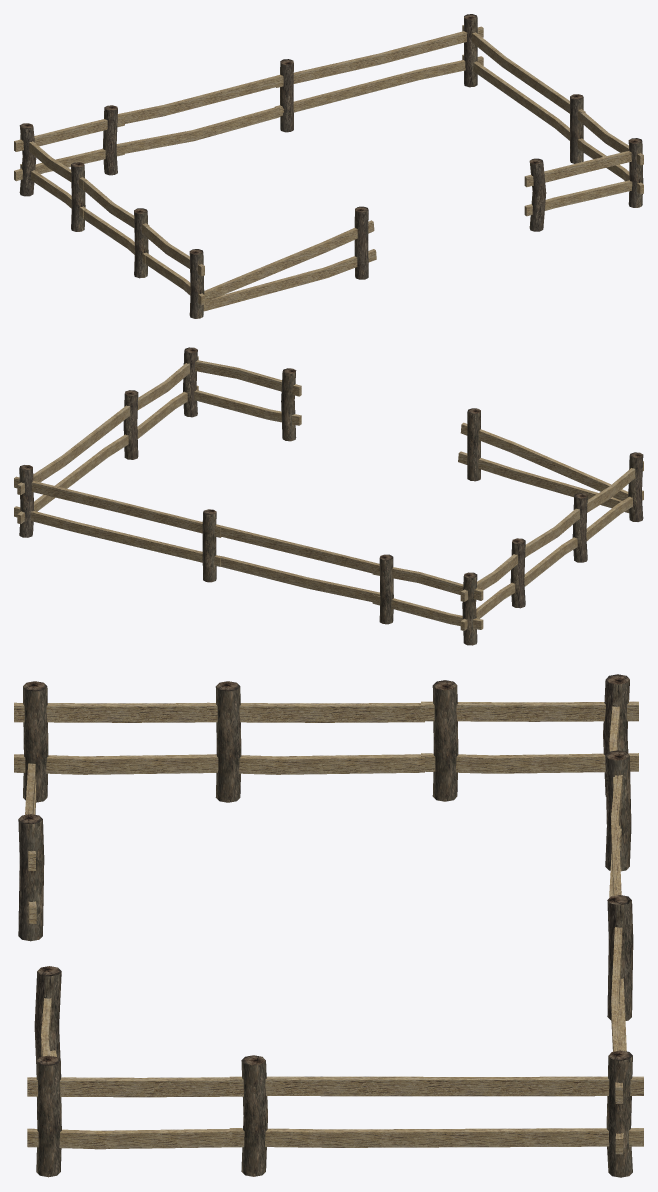
The model's file is Sheepfold2.fbx.
3 renders of one model, top to bottom at view 1: azimuth 30°, elevation 25°; view 2: azimuth 150°, elevation 25°; view 3: azimuth 270°, elevation 25°, orthographic. The views are drawn at different scales.
Parts seen in each view (by area): view 1: wooden_fence_without_proxy1:wooden_fence_large_corner, wooden_fence_without_proxy1:wooden_fence_small_corner, wooden_fence_without_proxy1:wooden_fence_large_broken_1poleR, wooden_fence_without_proxy1:wooden_fence_small_1pole_L, wooden_fence_small_1pole_R1, wooden_fence_without_proxy1:wooden_fence_small_1pole_R, wooden_fence_small_1pole_R, wooden_fence_without_proxy1:wooden_fence_plank_large3, wooden_fence_without_proxy1:wooden_fence_plank_large2; view 2: wooden_fence_without_proxy1:wooden_fence_large_corner, wooden_fence_without_proxy1:wooden_fence_small_corner, wooden_fence_without_proxy1:wooden_fence_large_broken_1poleR, wooden_fence_without_proxy1:wooden_fence_small_1pole_L, wooden_fence_small_1pole_R1, wooden_fence_small_1pole_R, wooden_fence_without_proxy1:wooden_fence_small_1pole_R, wooden_fence_without_proxy1:wooden_fence_plank_large2, wooden_fence_without_proxy1:wooden_fence_plank_large3; view 3: wooden_fence_without_proxy1:wooden_fence_large_corner, wooden_fence_without_proxy1:wooden_fence_small_corner, wooden_fence_small_1pole_R1, wooden_fence_small_1pole_R, wooden_fence_without_proxy1:wooden_fence_small_1pole_R, wooden_fence_without_proxy1:wooden_fence_large_broken_1poleR, wooden_fence_without_proxy1:wooden_fence_small_1pole_L, wooden_fence_without_proxy1:wooden_fence_plank_large2.
Boxes of the visible parts, left/top/right/bottom form: wooden_fence_without_proxy1:wooden_fence_large_corner: left=275, top=14, right=585, bottom=163; wooden_fence_without_proxy1:wooden_fence_small_corner: left=14, top=105, right=124, bottom=231; wooden_fence_without_proxy1:wooden_fence_large_broken_1poleR: left=203, top=206, right=376, bottom=311; wooden_fence_without_proxy1:wooden_fence_small_1pole_L: left=524, top=151, right=632, bottom=231; wooden_fence_small_1pole_R1: left=83, top=180, right=149, bottom=278; wooden_fence_without_proxy1:wooden_fence_small_1pole_R: left=142, top=224, right=204, bottom=318; wooden_fence_small_1pole_R: left=577, top=110, right=643, bottom=207; wooden_fence_without_proxy1:wooden_fence_plank_large3: left=106, top=107, right=284, bottom=155; wooden_fence_without_proxy1:wooden_fence_plank_large2: left=117, top=74, right=283, bottom=123; wooden_fence_without_proxy1:wooden_fence_large_corner: left=14, top=390, right=222, bottom=582; wooden_fence_without_proxy1:wooden_fence_small_corner: left=372, top=538, right=527, bottom=645; wooden_fence_without_proxy1:wooden_fence_large_broken_1poleR: left=458, top=408, right=628, bottom=512; wooden_fence_without_proxy1:wooden_fence_small_1pole_L: left=194, top=360, right=301, bottom=441; wooden_fence_small_1pole_R1: left=524, top=493, right=588, bottom=584; wooden_fence_small_1pole_R: left=137, top=347, right=198, bottom=438; wooden_fence_without_proxy1:wooden_fence_small_1pole_R: left=586, top=452, right=643, bottom=539; wooden_fence_without_proxy1:wooden_fence_plank_large2: left=214, top=524, right=379, bottom=575; wooden_fence_without_proxy1:wooden_fence_plank_large3: left=219, top=555, right=379, bottom=602; wooden_fence_without_proxy1:wooden_fence_large_corner: left=229, top=895, right=643, bottom=1177; wooden_fence_without_proxy1:wooden_fence_small_corner: left=421, top=674, right=638, bottom=871; wooden_fence_small_1pole_R1: left=207, top=681, right=424, bottom=802; wooden_fence_small_1pole_R: left=27, top=1055, right=243, bottom=1177; wooden_fence_without_proxy1:wooden_fence_small_1pole_R: left=14, top=681, right=214, bottom=802; wooden_fence_without_proxy1:wooden_fence_large_broken_1poleR: left=18, top=763, right=44, bottom=941; wooden_fence_without_proxy1:wooden_fence_small_1pole_L: left=34, top=966, right=61, bottom=1076; wooden_fence_without_proxy1:wooden_fence_plank_large2: left=611, top=775, right=622, bottom=895.
Bounding box in the file's own units: 6.67 × 0.9231 × 4.49.
